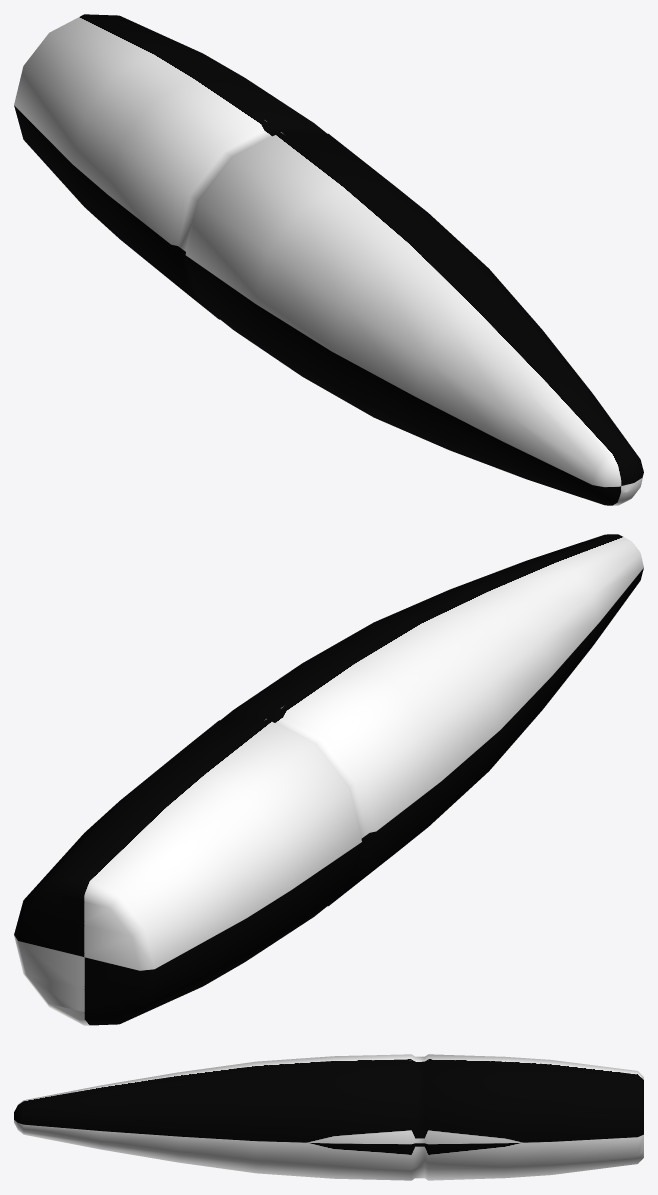
The model's file is projectile_545.obj.
3 renders of one model, top to bottom at view 1: azimuth 30°, elevation 25°; view 2: azimuth 150°, elevation 25°; view 3: azimuth 270°, elevation 25°, orthographic. The views are drawn at different scales.
Parts seen in each view (by area): view 1: default; view 2: default; view 3: default.
Part boxes in pixels (left/top/right/bottom): default: left=14, top=14, right=643, bottom=505; default: left=14, top=534, right=643, bottom=1025; default: left=14, top=1054, right=643, bottom=1180.
Bounding box in the file's own units: 0.1926 × 0.1926 × 0.957.
1 material, 1 textured.
